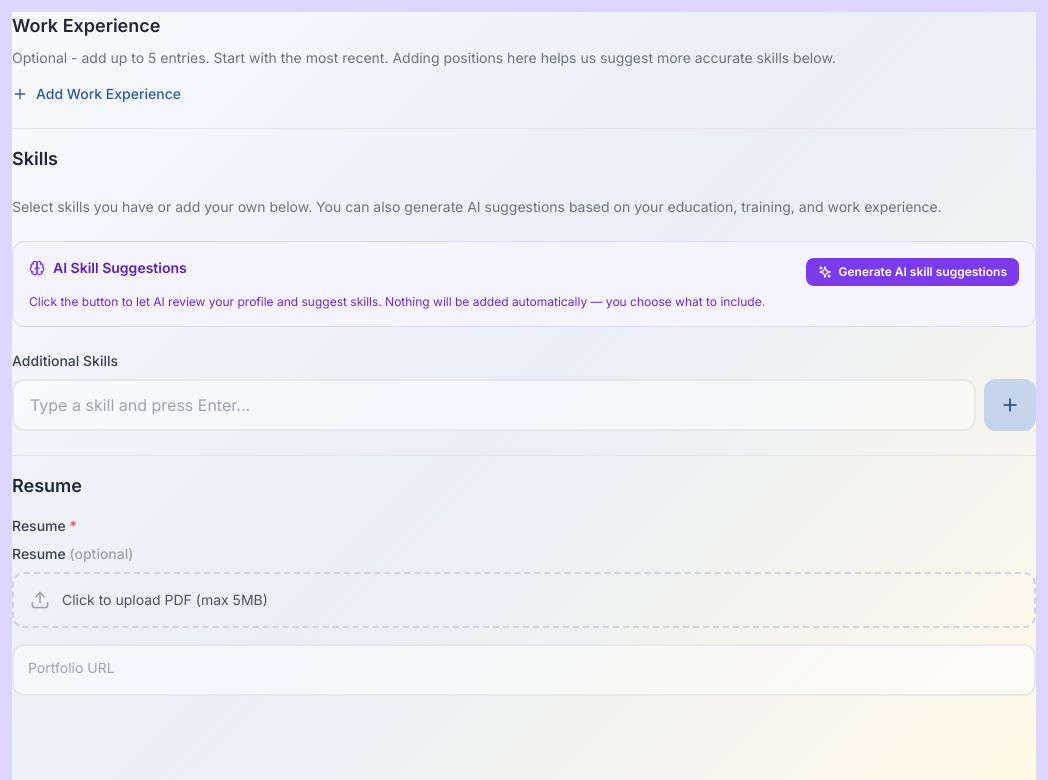
Test case: Step5SkillsExperience — AI skill suggestions › shows an empty AI state when AI succeeds without new suggestions
Click the button "Generate AI skill suggestions": (913, 272) [806,258,1019,286]
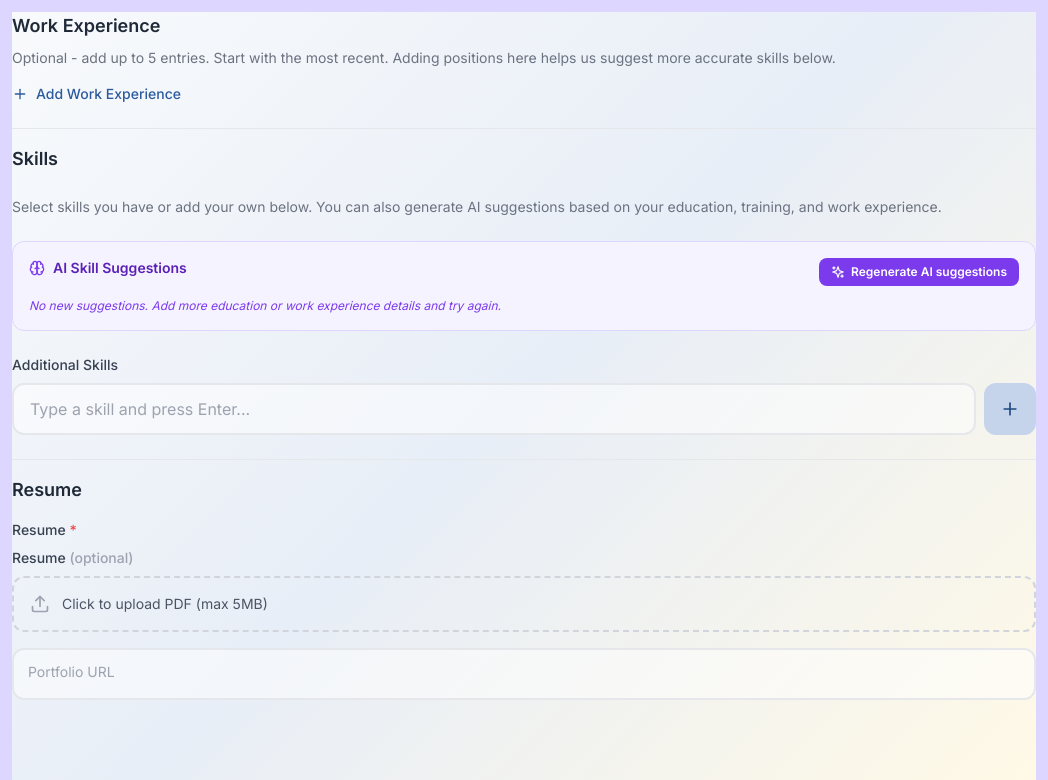
Expected: the text "No new suggestions. Add more education or work experience details and try again." is shown, [29,298,501,313]
